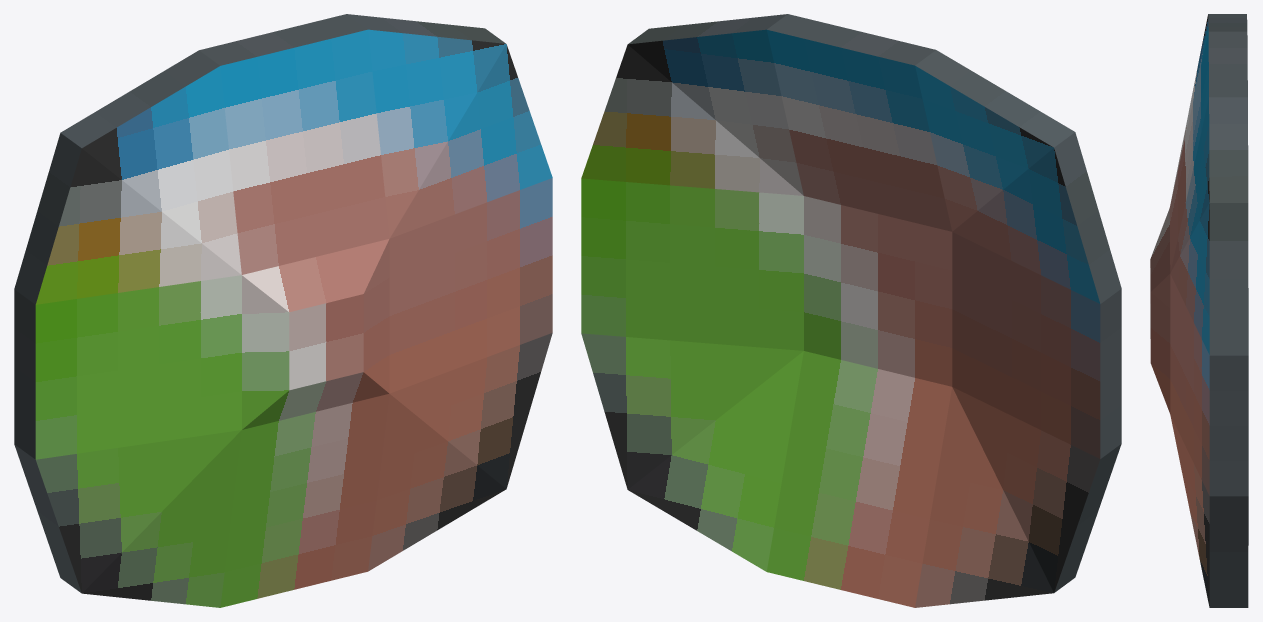
File: reaperShield_V2.fbx
The picture shows the model from 3 angles, left to right: view 1: azimuth 30°, elevation 25°; view 2: azimuth 150°, elevation 25°; view 3: azimuth 270°, elevation 25°; orthographic projection. The views are drawn at different scales.
Parts seen in each view (by area): view 1: Object_0.001; view 2: Object_0.001; view 3: Object_0.001.
Part boxes in pixels (x1,y1,x2,y2): Object_0.001: (14,14,552,607); Object_0.001: (581,14,1121,607); Object_0.001: (1150,14,1248,607).
Size of the model in its own units: 87.52 by 87.5 by 15.78.
1 material, 1 textured.
